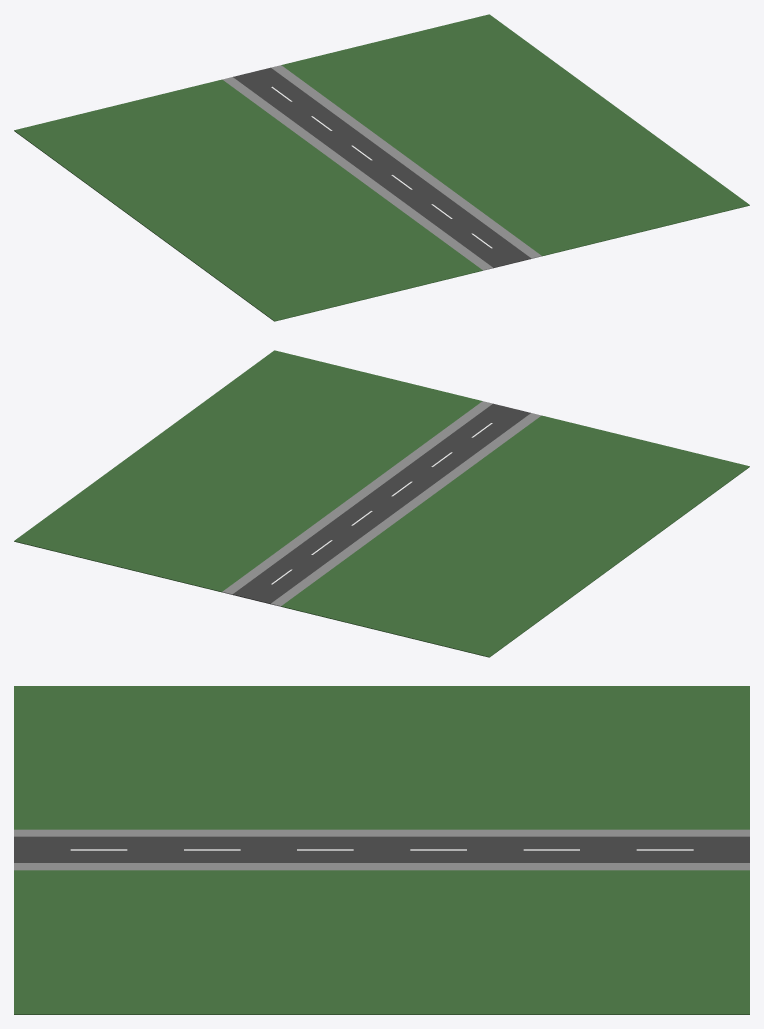
File: Map1.fbx
3 renders of one model, top to bottom at view 1: azimuth 30°, elevation 25°; view 2: azimuth 150°, elevation 25°; view 3: azimuth 270°, elevation 25°, orthographic. The views are drawn at different scales.
Visible parts, largest first — view 1: Map2; view 2: Map2; view 3: Map2.
Part boxes in pixels (box(x1,y1,x2,y2)): Map2: box(14, 14, 749, 321); Map2: box(14, 350, 749, 657); Map2: box(14, 686, 749, 1014).
Bounding box in the file's own units: 6850 × 10 × 6500.
